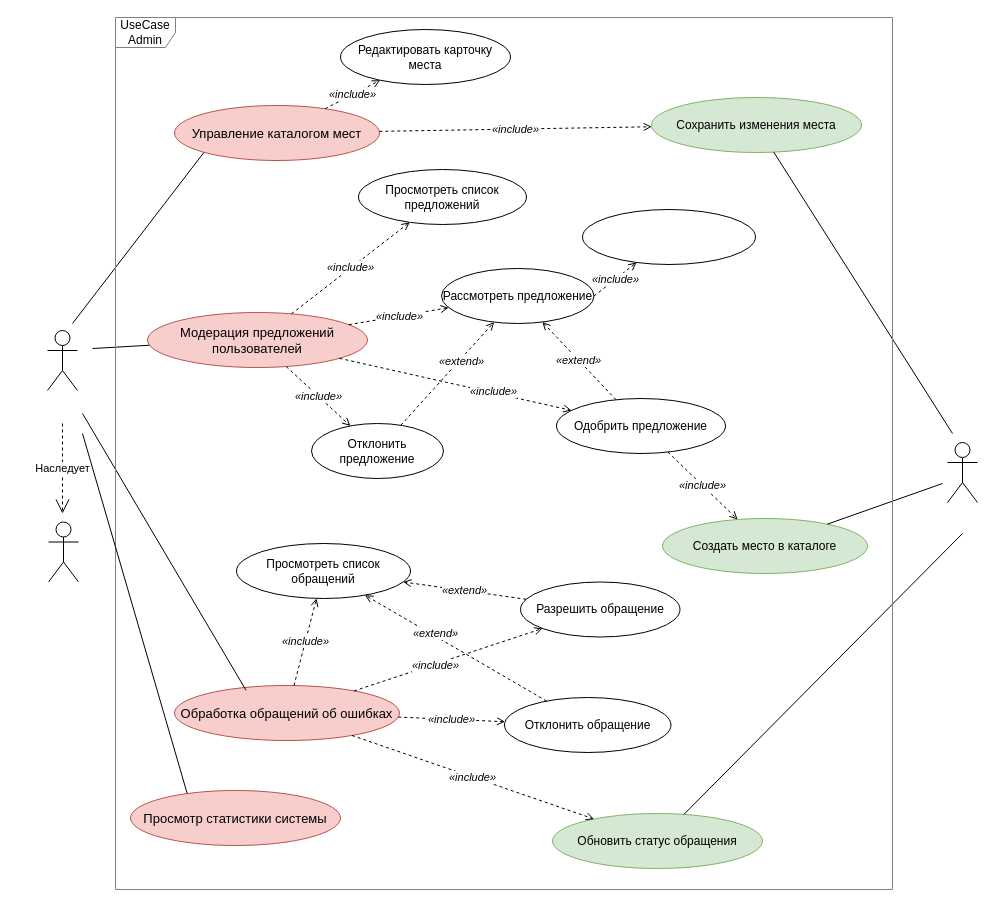
The diagram is 1004 pixels wide and 907 high, and some of its shapes have lost their labels. Here are the shapes that lost their labels. From the top down, the centre of each, then its label:
At (669,236): "Редактировать данные предложения".
At (62,360): "Администратор".
At (962,472): "Система".
At (63,551): "Авторизованный пользователь".
